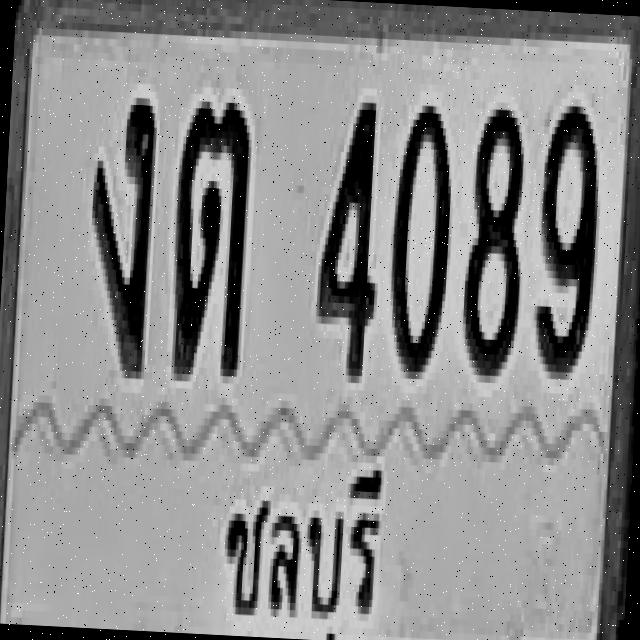0: (384, 97, 456, 373)
16NgorNgu: (82, 89, 158, 372)
30TorTao: (170, 93, 253, 377)
4: (313, 94, 385, 376)
8: (459, 101, 528, 377)
9: (532, 98, 602, 374)
Chonburi: (211, 460, 400, 640)
